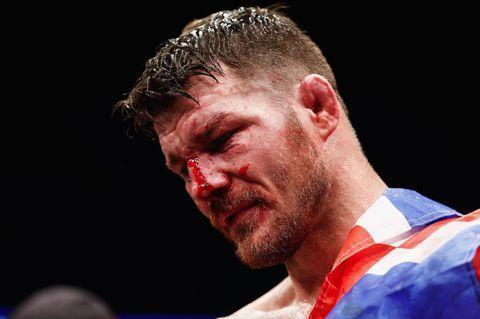Fire: (184, 155, 257, 204)
